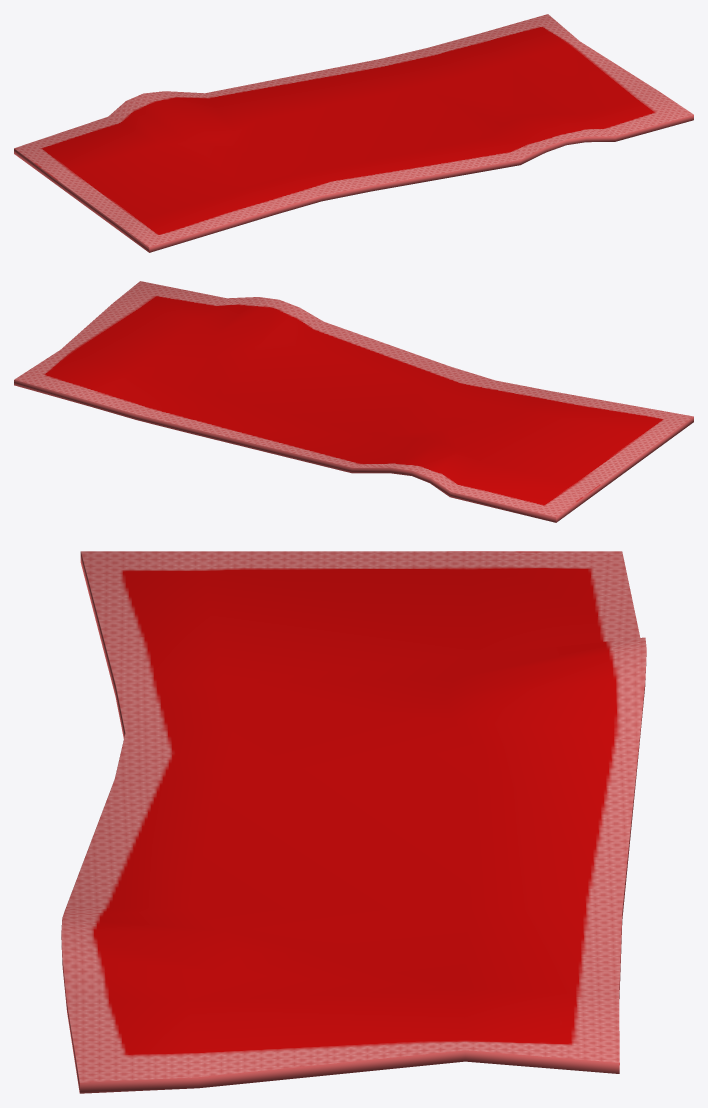
Rendered from SM_Cover_01.fbx.
3 renders of one model, top to bottom at view 1: azimuth 30°, elevation 25°; view 2: azimuth 150°, elevation 25°; view 3: azimuth 270°, elevation 25°, orthographic. The views are drawn at different scales.
Visible parts, largest first — view 1: SM_Cover_01; view 2: SM_Cover_01; view 3: SM_Cover_01.
Boxes of the visible parts, x1,y1,x2,y2 form: SM_Cover_01: [14, 14, 693, 252]; SM_Cover_01: [14, 281, 693, 522]; SM_Cover_01: [61, 551, 646, 1093].
Bounding box in the file's own units: 232 × 108 × 9.9.
1 material, 1 textured.
